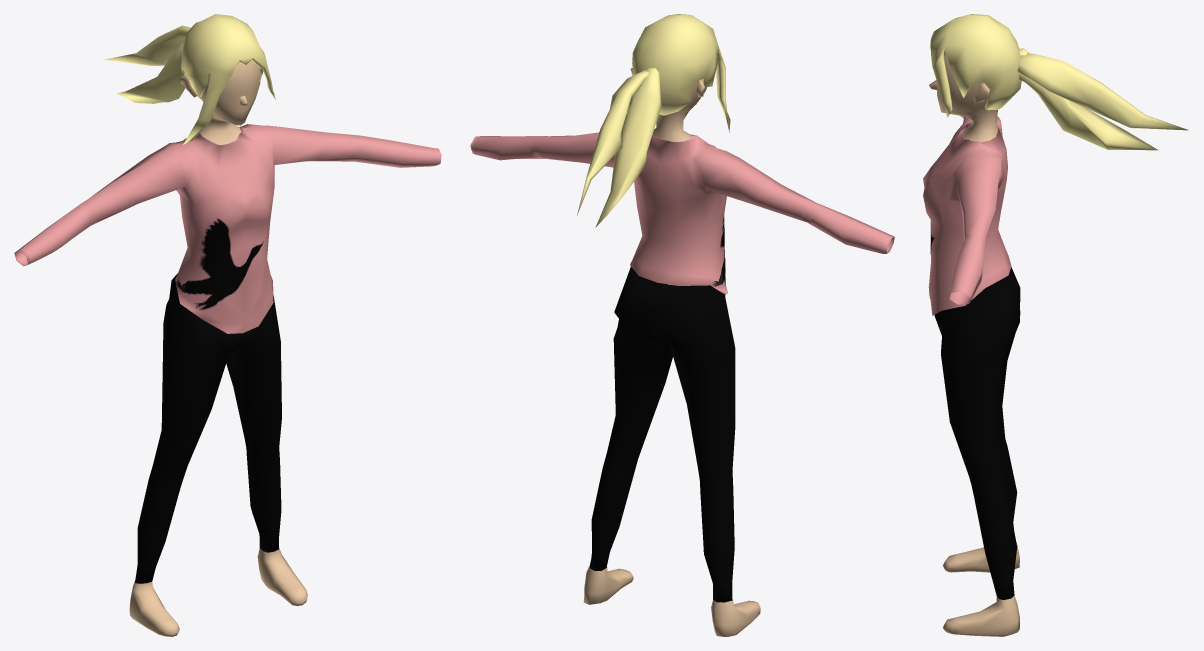
The model's file is C_Sara.fbx.
3 views of the same model, side by side, from view 1: azimuth 30°, elevation 25°; view 2: azimuth 150°, elevation 25°; view 3: azimuth 270°, elevation 25° (orthographic).
Visible parts, largest first — view 1: Upper_Body.004, Lower Body.006, Hair.002, Feet.003, Head.004; view 2: Lower Body.006, Upper_Body.004, Hair.002, Feet.003, Head.004; view 3: Lower Body.006, Hair.002, Upper_Body.004, Feet.003, Head.004.
Boxes of the visible parts, box(x1,y1,x2,y2) form: Upper_Body.004: box(14, 124, 441, 333); Lower Body.006: box(135, 273, 281, 583); Hair.002: box(104, 14, 275, 144); Feet.003: box(129, 547, 307, 636); Head.004: box(179, 61, 260, 144); Lower Body.006: box(590, 267, 735, 602); Upper_Body.004: box(470, 132, 894, 294); Hair.002: box(577, 14, 730, 227); Feet.003: box(583, 565, 760, 636); Head.004: box(630, 68, 706, 142); Lower Body.006: box(934, 267, 1020, 599); Hair.002: box(930, 14, 1188, 150); Upper_Body.004: box(923, 115, 1011, 315); Feet.003: box(942, 542, 1019, 636); Head.004: box(929, 51, 998, 142).
Size of the model in its own units: 135 by 182 by 75.47.
4 materials, 1 textured.
